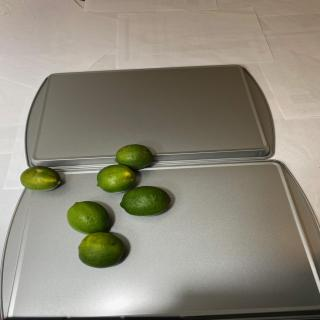Lemon: (78, 232, 125, 268), (120, 186, 171, 216), (66, 200, 110, 234), (96, 164, 136, 193), (20, 166, 61, 192), (115, 144, 153, 170)
